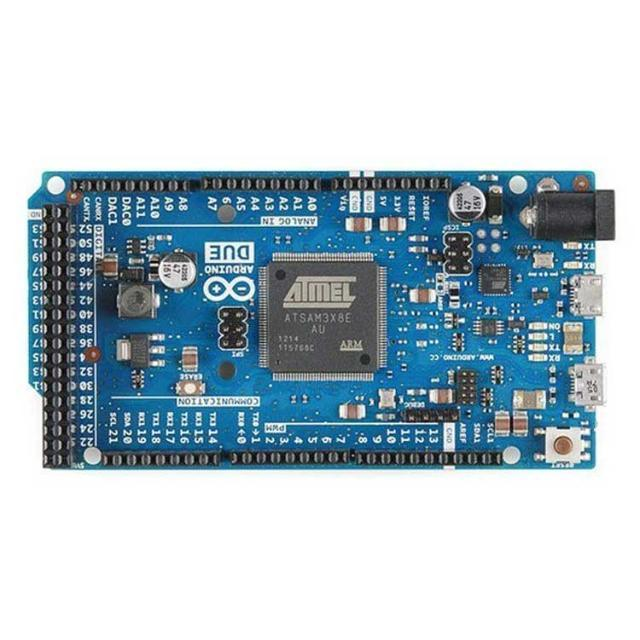Arduino-Due: (29, 171, 615, 469)
